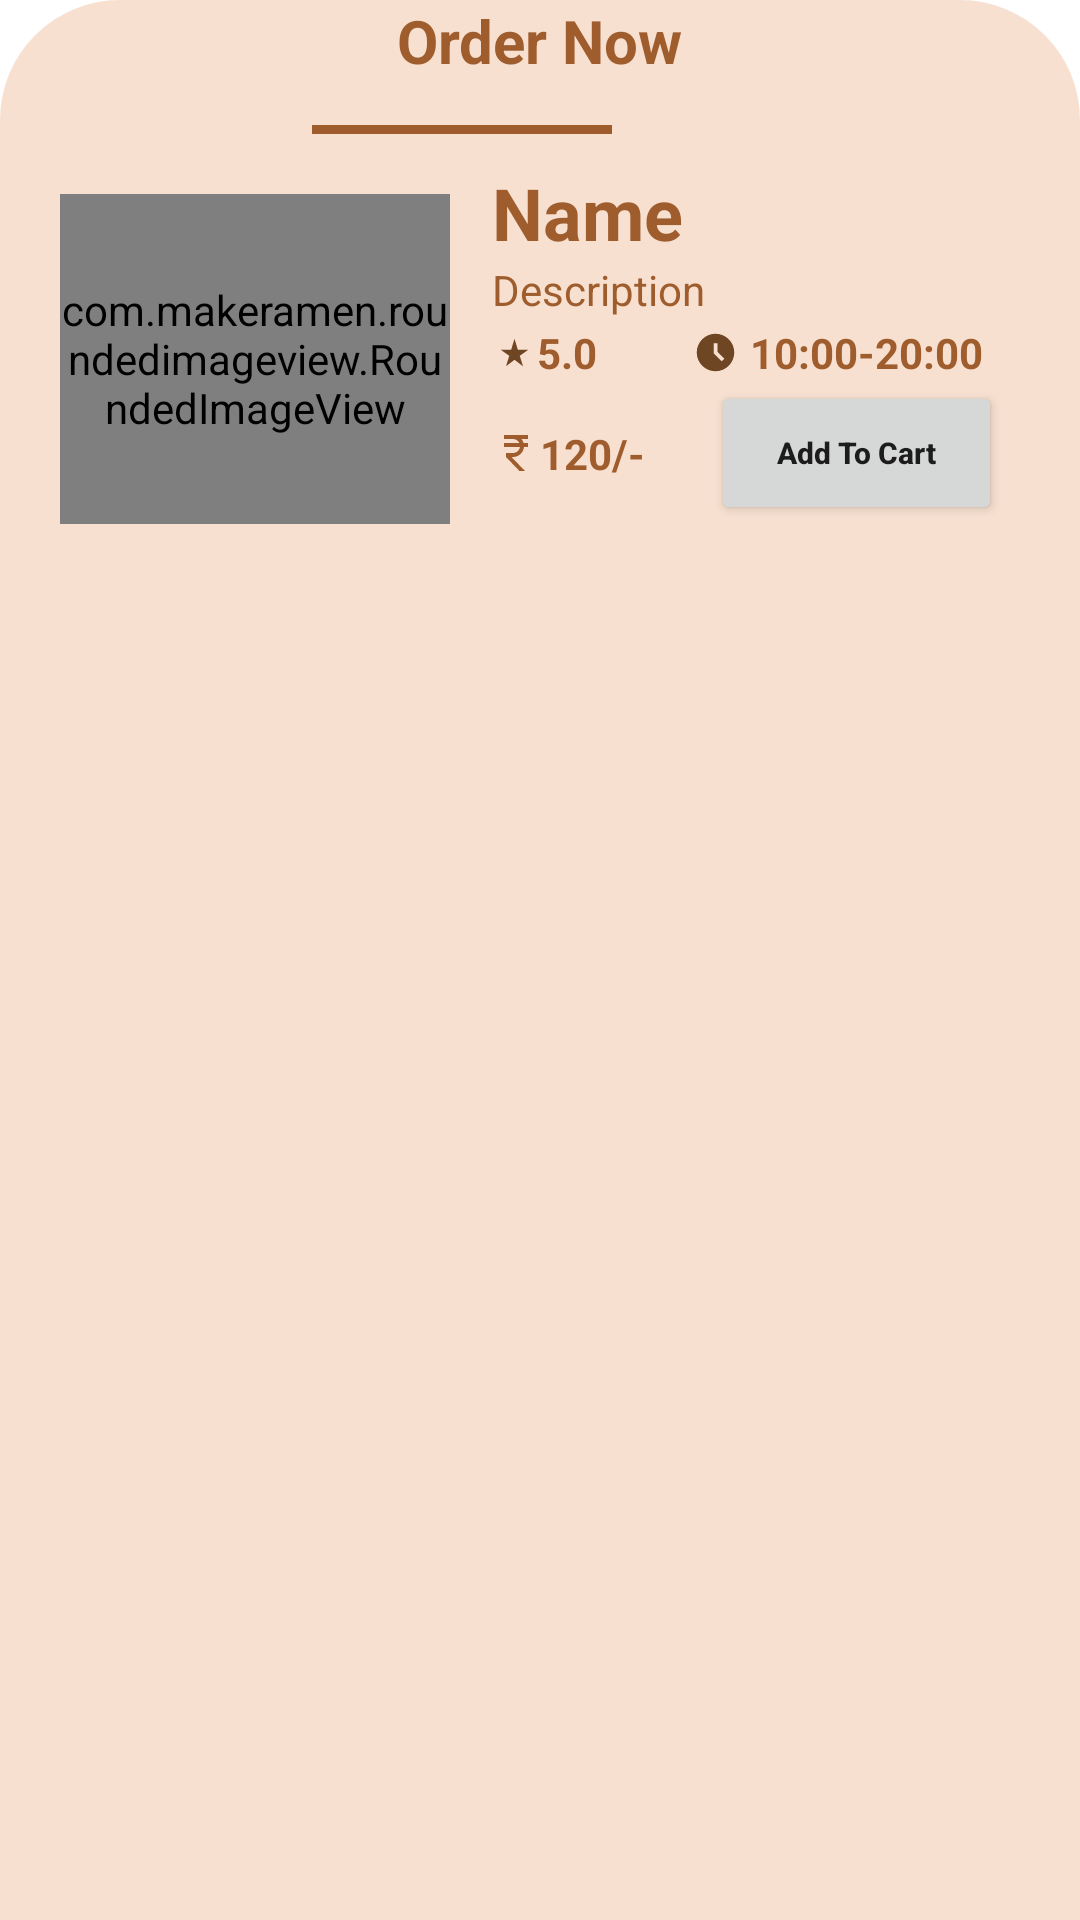

Locate icon controls on the screen. Image size 1080px×1920px, boxes as (x1, y1, x2, y2).
access time: (696, 333, 735, 372)
currency rupee: (504, 435, 528, 471)
star rate: (501, 339, 528, 366)
